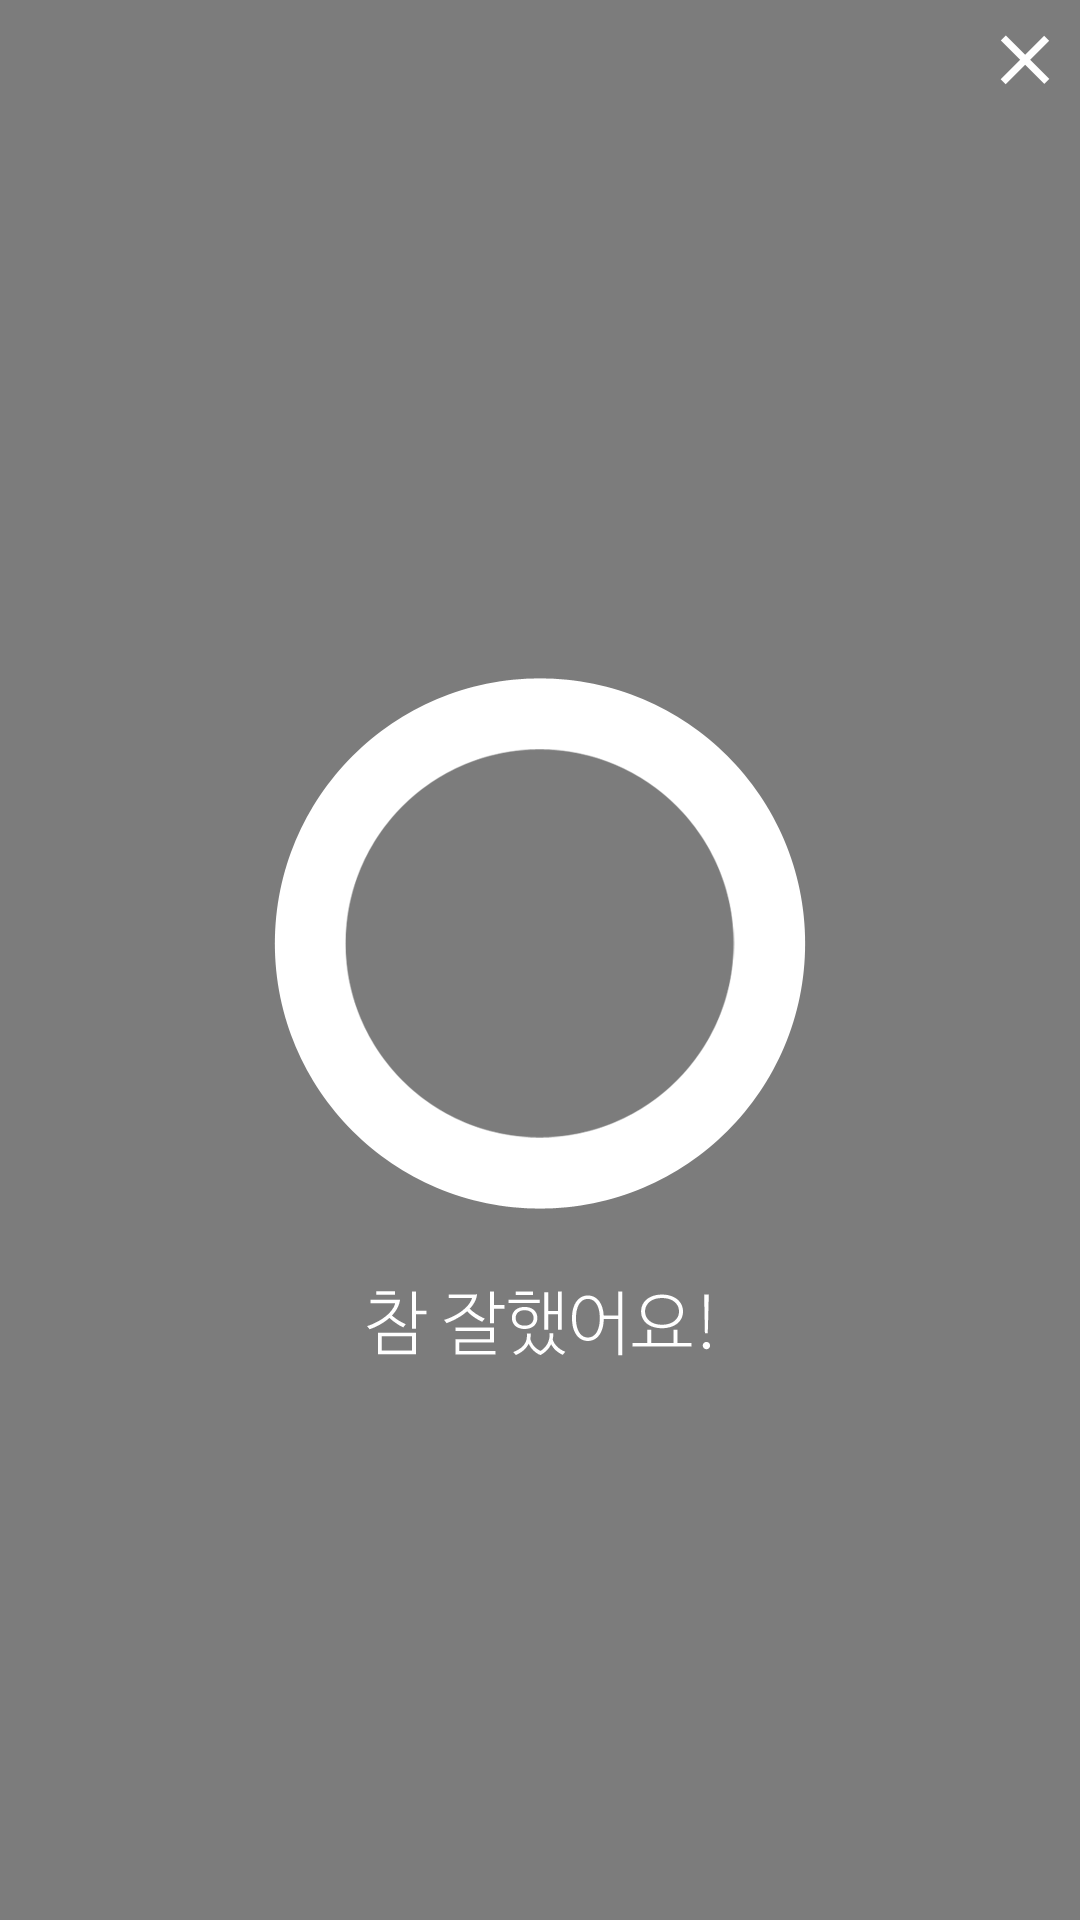

Screen size 1080px x 1920px. Icon name, then its box in pixels as detection(x1, y1, x2, y2):
close: detection(1001, 35, 1049, 84)
